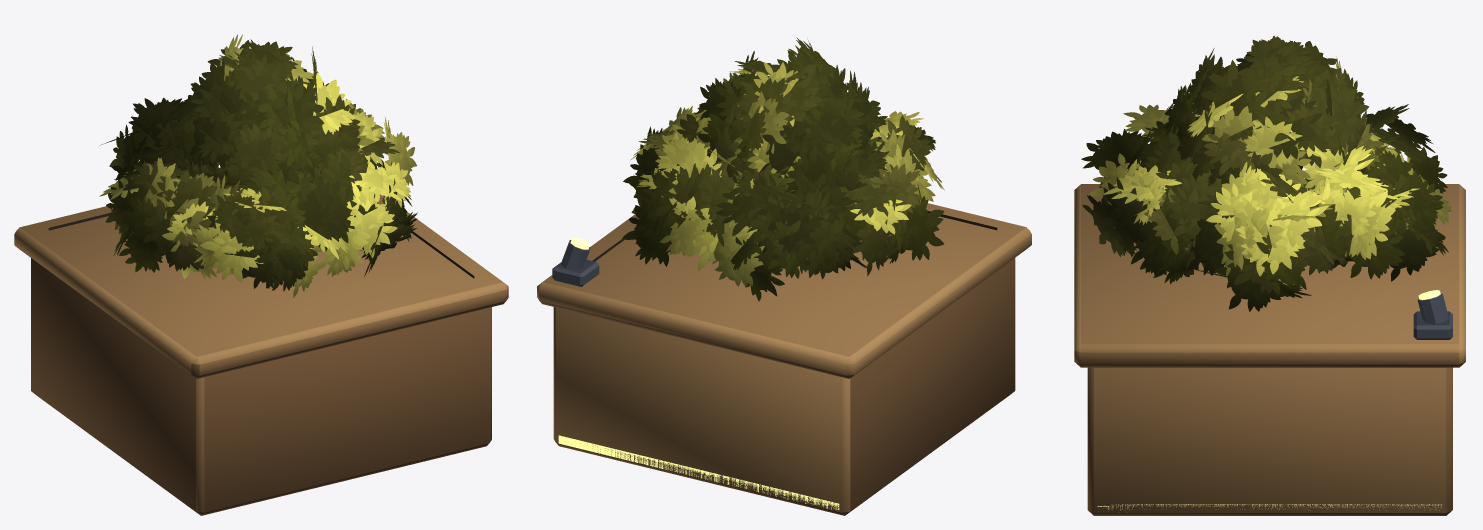
Rendered from planter_square.glb.
3 renders of one model, left to right at view 1: azimuth 30°, elevation 25°; view 2: azimuth 150°, elevation 25°; view 3: azimuth 270°, elevation 25°, orthographic. The views are drawn at different scales.
Visible parts, largest first — view 1: body; view 2: body, light; view 3: body, light.
Part boxes in pixels (<box>): body: <box>14,34,508,515</box>; body: <box>537,37,1031,515</box>; light: <box>552,237,839,509</box>; body: <box>1074,36,1465,515</box>; light: <box>1097,290,1452,510</box>.
Bounding box in the file's own units: 1.25 × 1.42 × 1.25.
4 materials, 1 textured.
